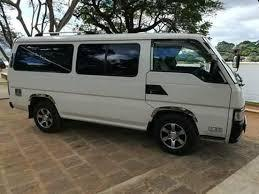Van: (10, 29, 252, 153)
